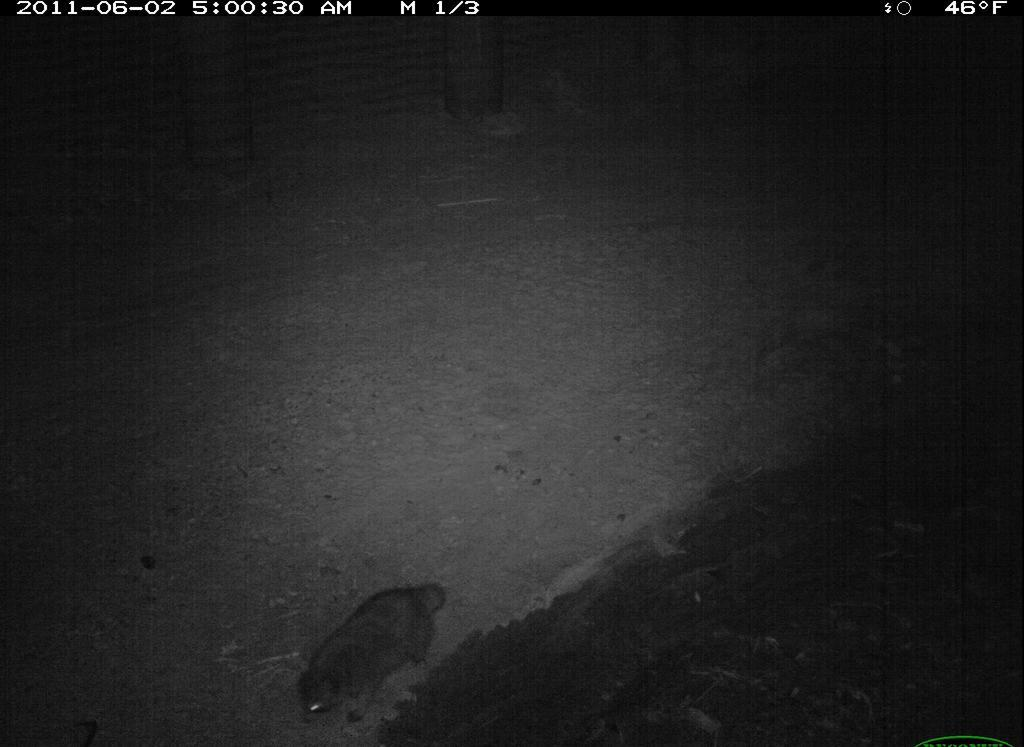raccoon: (286, 569, 466, 737)
